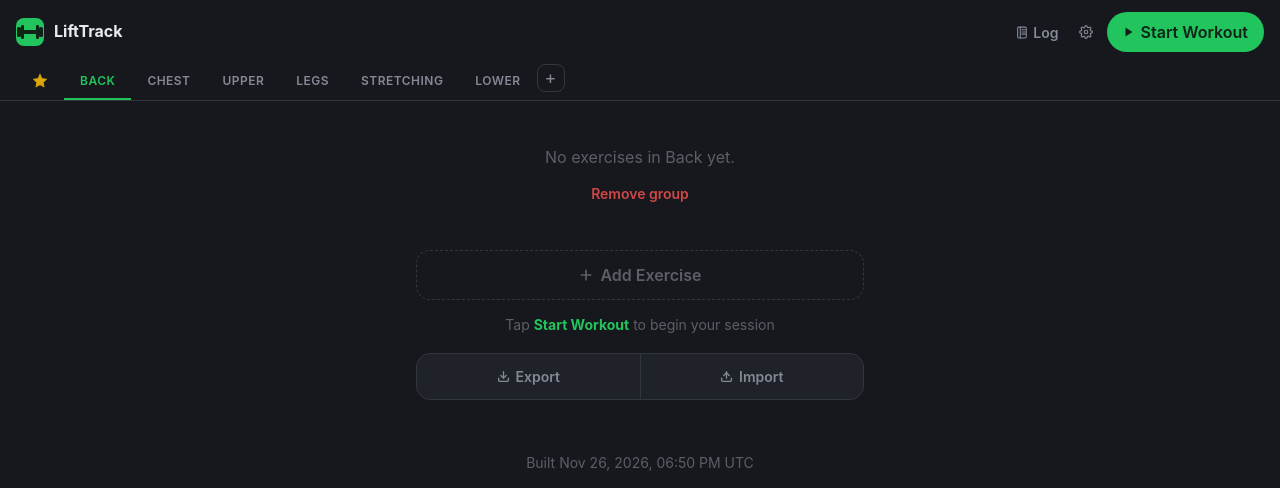
it: custom categories › navigating to a new category tab shows the empty-state message
The width and height of the screenshot is (1280, 488).
Click the button with test id "tab-stretching": [402, 82] box [345, 64, 459, 100]
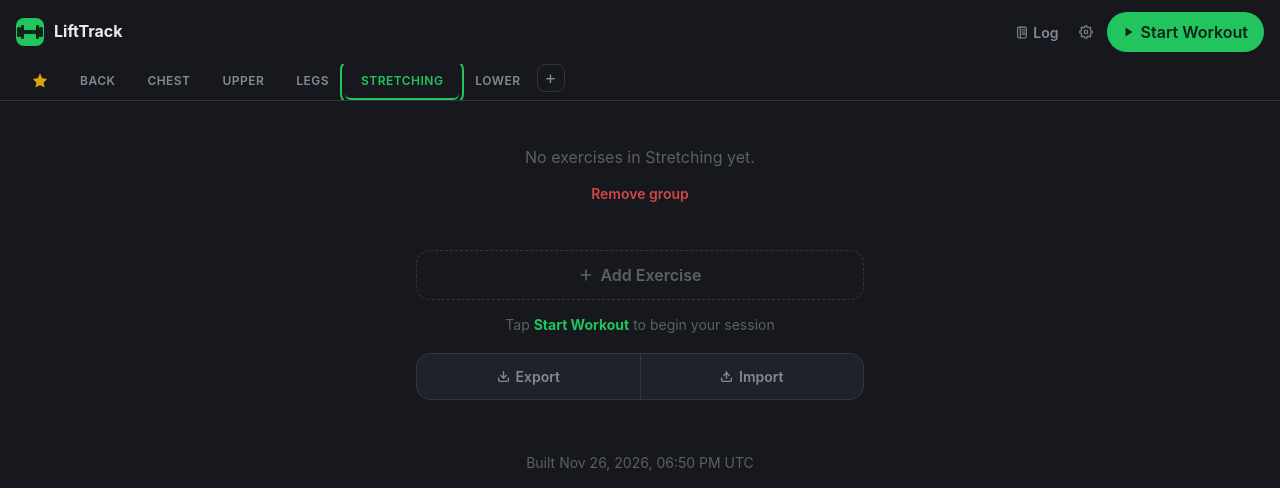
Check: the text "No exercises in Stretching yet." is shown, box [525, 147, 755, 167]
